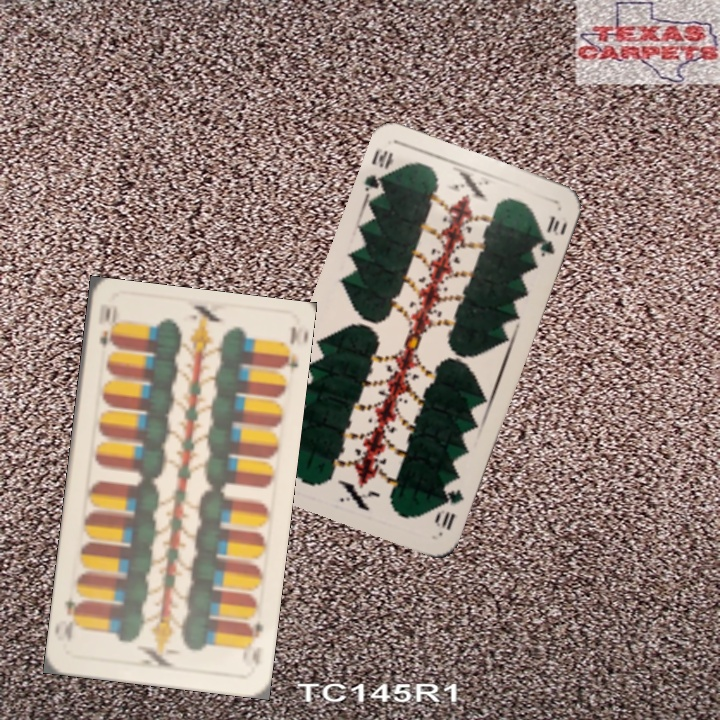E10: (95, 303, 120, 349), (241, 618, 266, 652)
G10: (360, 145, 396, 201), (431, 485, 467, 533)
